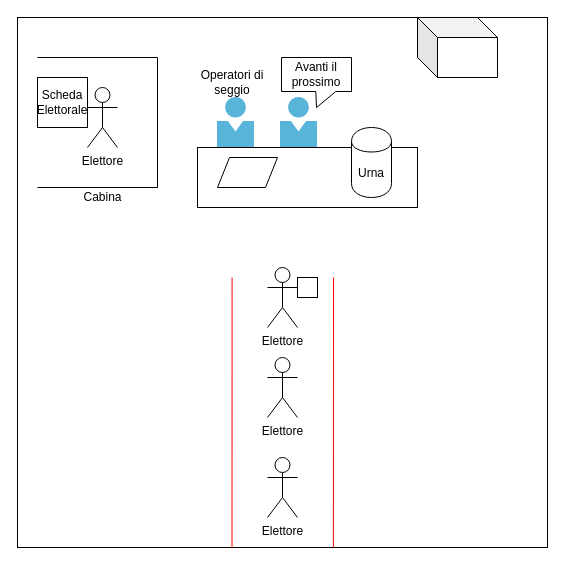
This 565x566 diagram has some shape labels left out. The shapes that lost their labels are listed below. From the top down, each one's centre as x and y in pixels, then its label:
At (x=457, y=47): "Scanner".
At (x=247, y=172): "Tablet".
At (x=307, y=287): "DNI".
